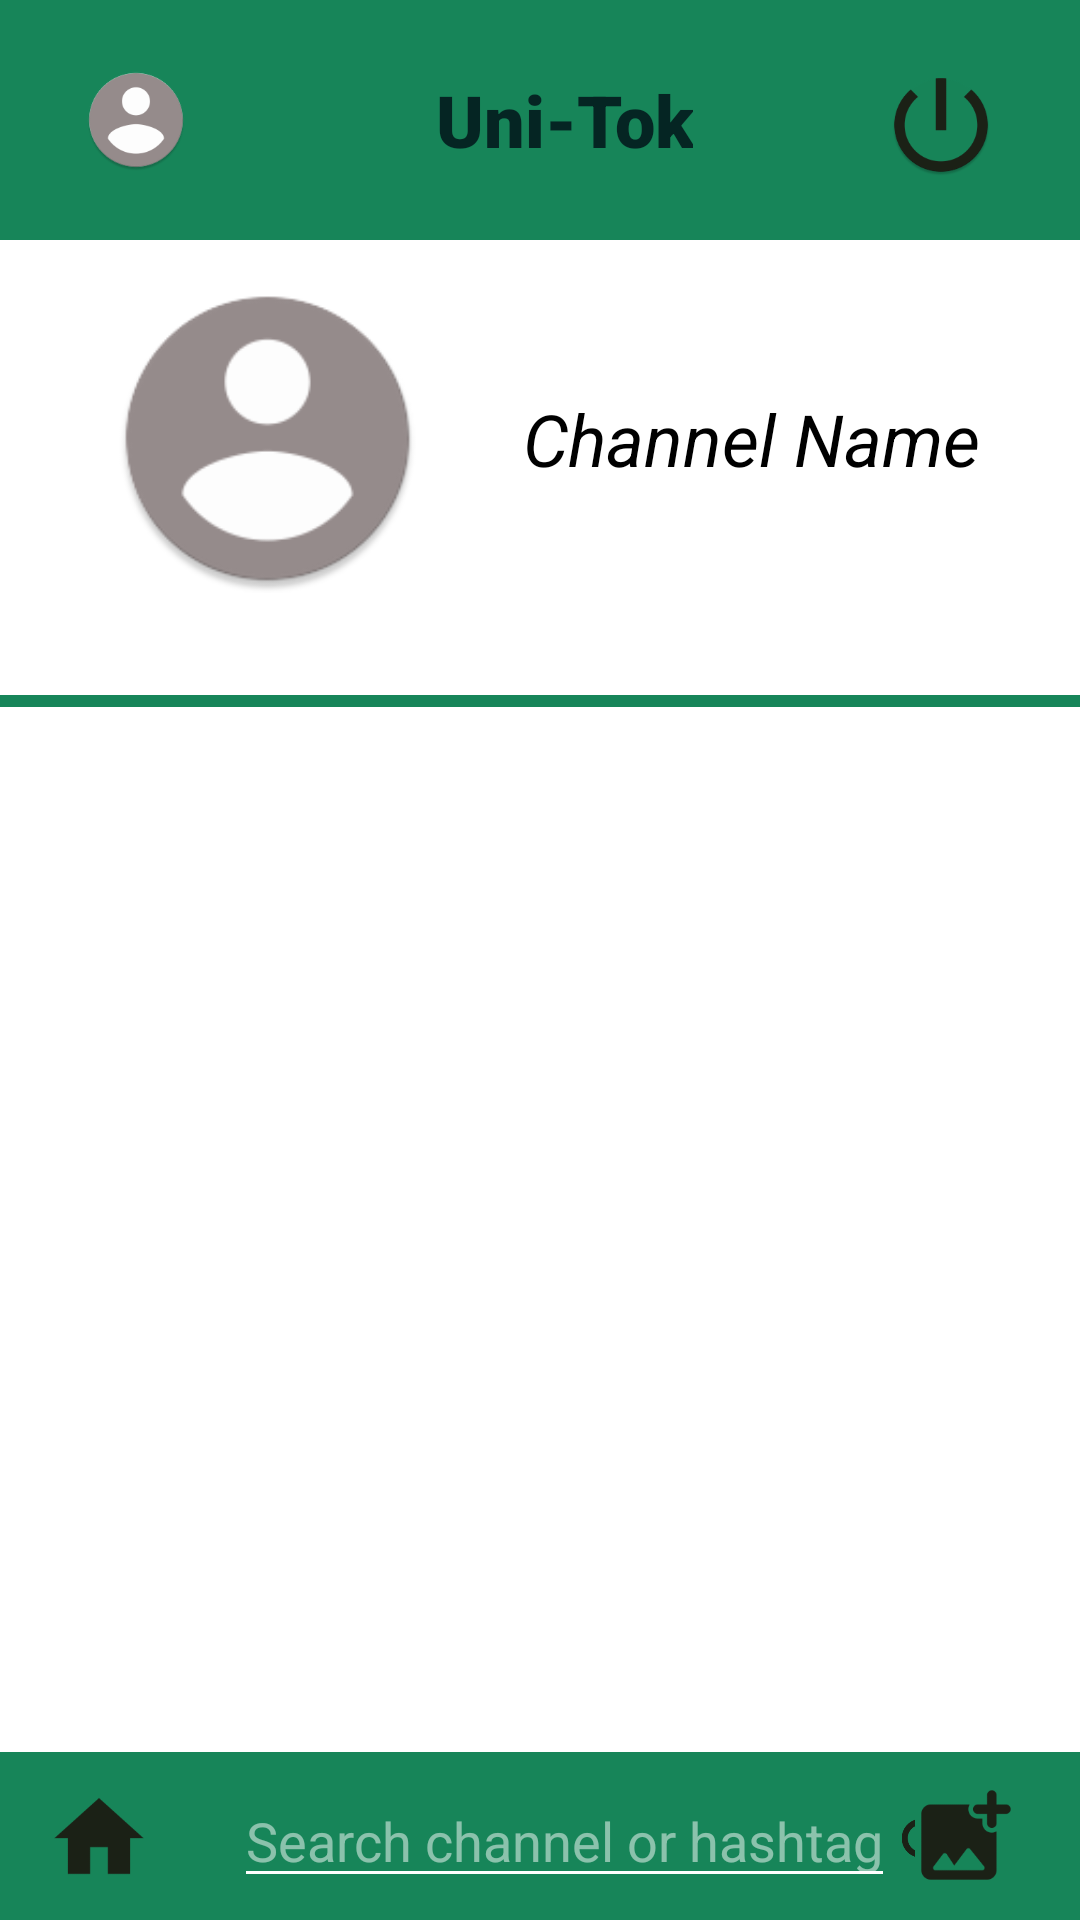

Point at icon controls on the screen. Image size 1080px x 1920px, points as (x,y).
exit: (941,125)
home page: (99,1836)
profile: (136,120), (268,442)
